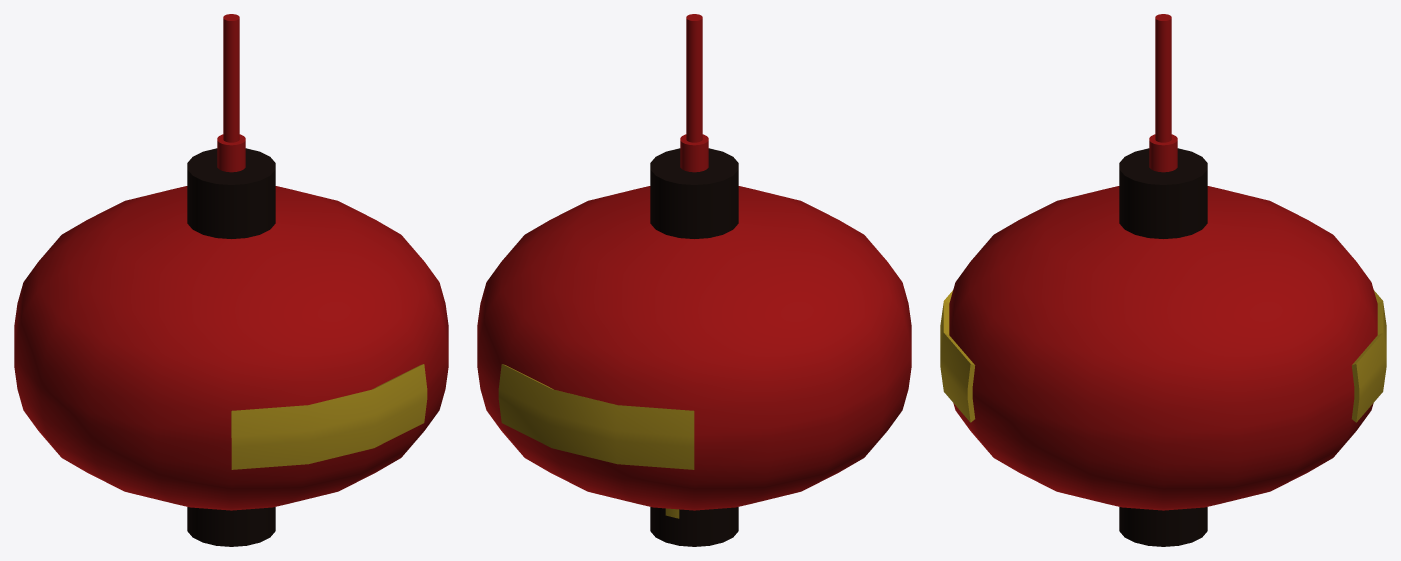
The model's file is Lantern002_M_v1_Carrie.FBX.
3 renders of one model, left to right at view 1: azimuth 30°, elevation 25°; view 2: azimuth 150°, elevation 25°; view 3: azimuth 270°, elevation 25°, orthographic.
Visible parts, largest first — view 1: lantern002; view 2: lantern002; view 3: lantern002.
Boxes of the visible parts, x1=… form: lantern002: x1=14, y1=14, x2=448, y2=546; lantern002: x1=477, y1=14, x2=911, y2=546; lantern002: x1=940, y1=14, x2=1386, y2=546.
Bounding box in the file's own units: 148 × 189 × 150.
